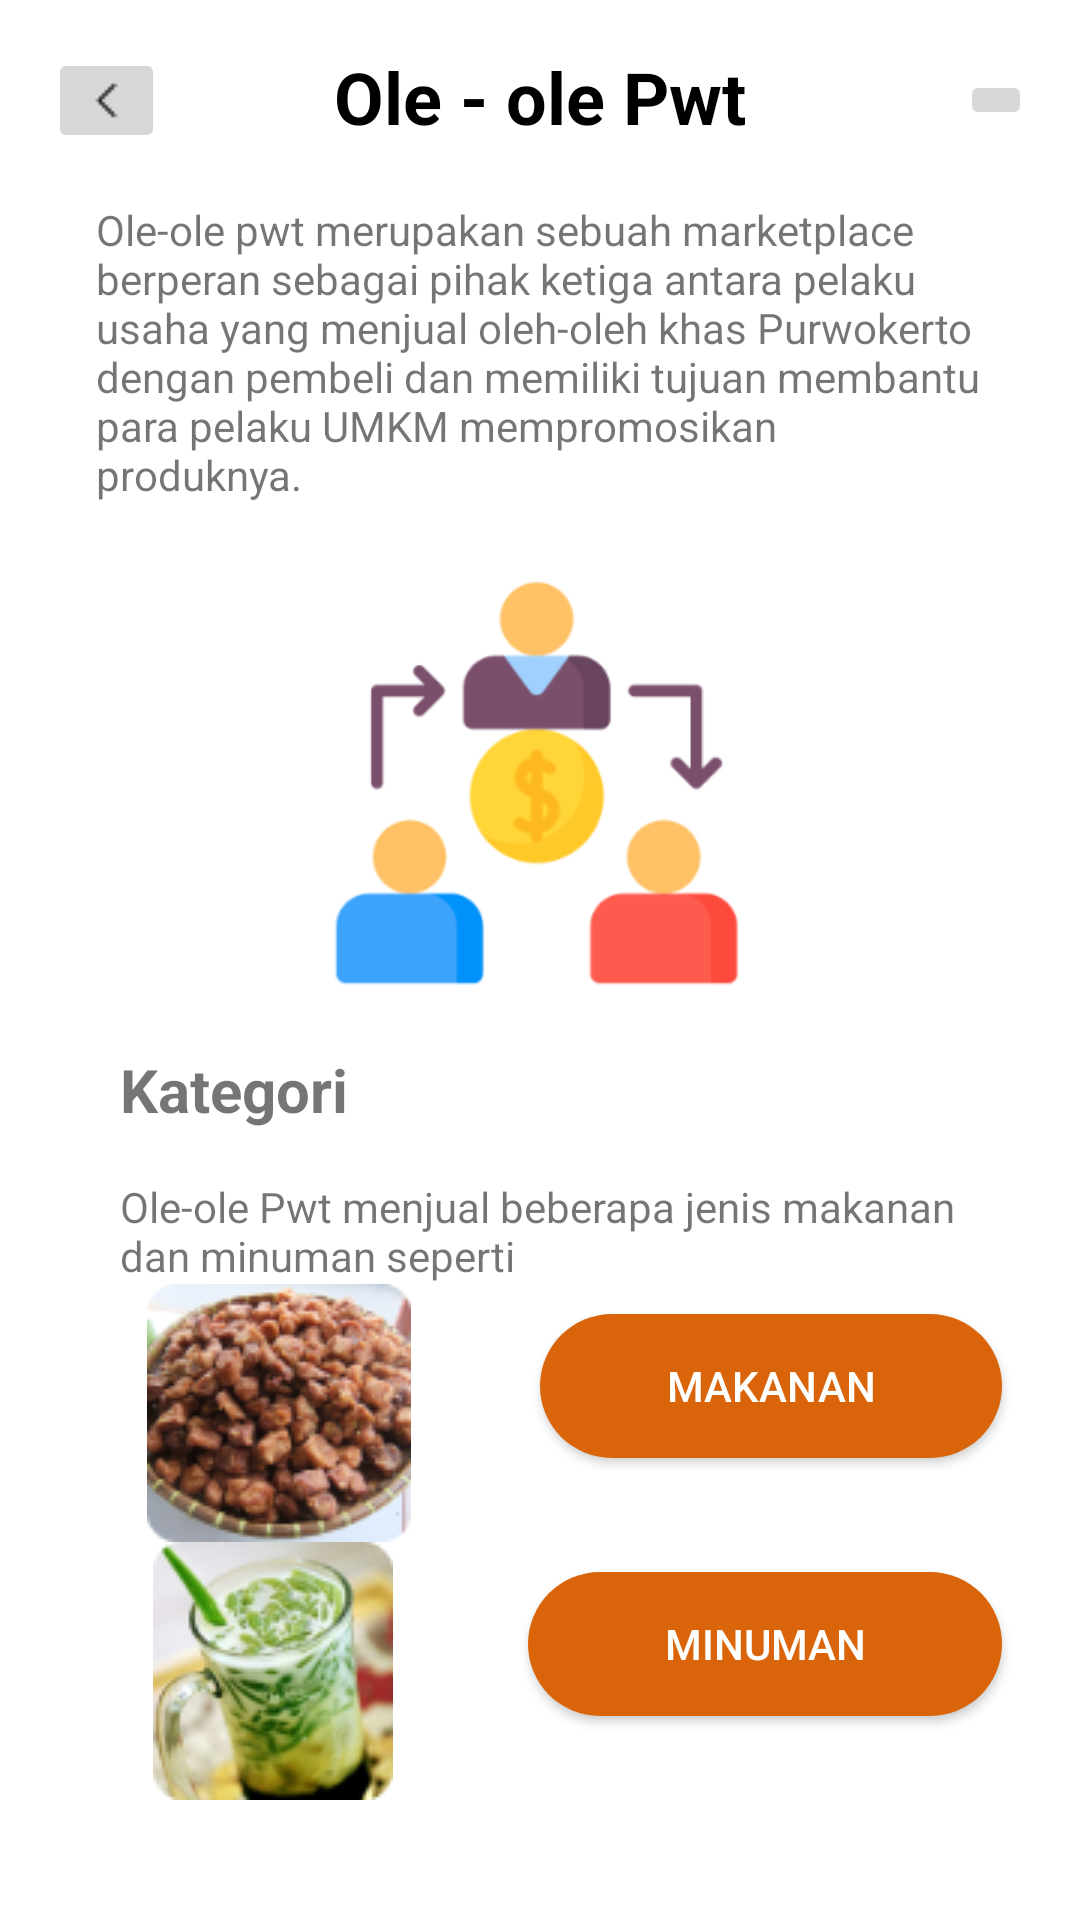

Icon bounding boxes for this 1080x1920 phone screenshot, format (x1, y1, x2, y2):
back: (60, 66, 153, 135)
dawet: (153, 1542, 393, 1800)
